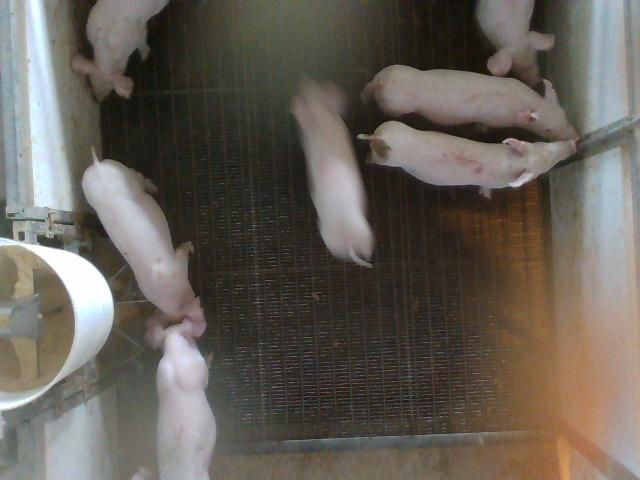pig-4: (290, 78, 374, 266)
pig-5: (358, 121, 576, 197)
